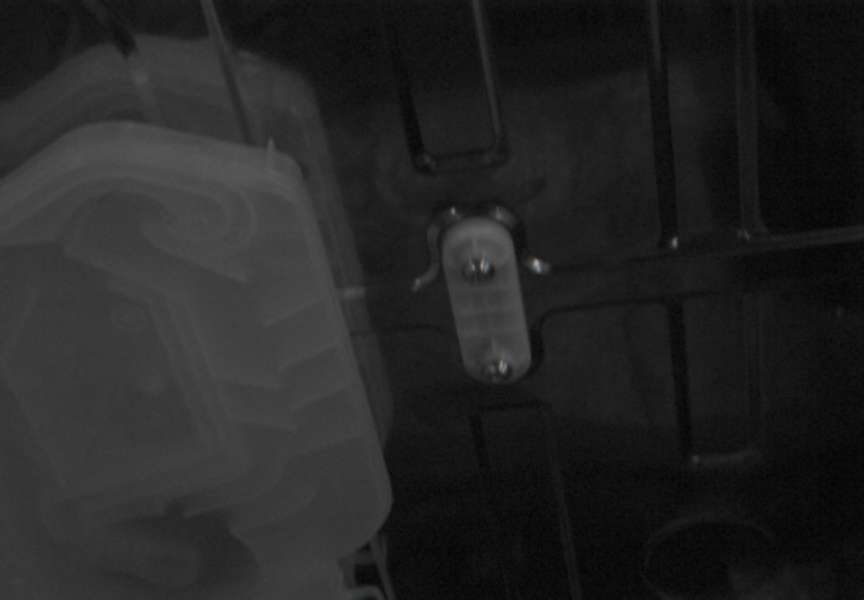screw: (462, 256, 495, 283), (483, 358, 513, 383)
